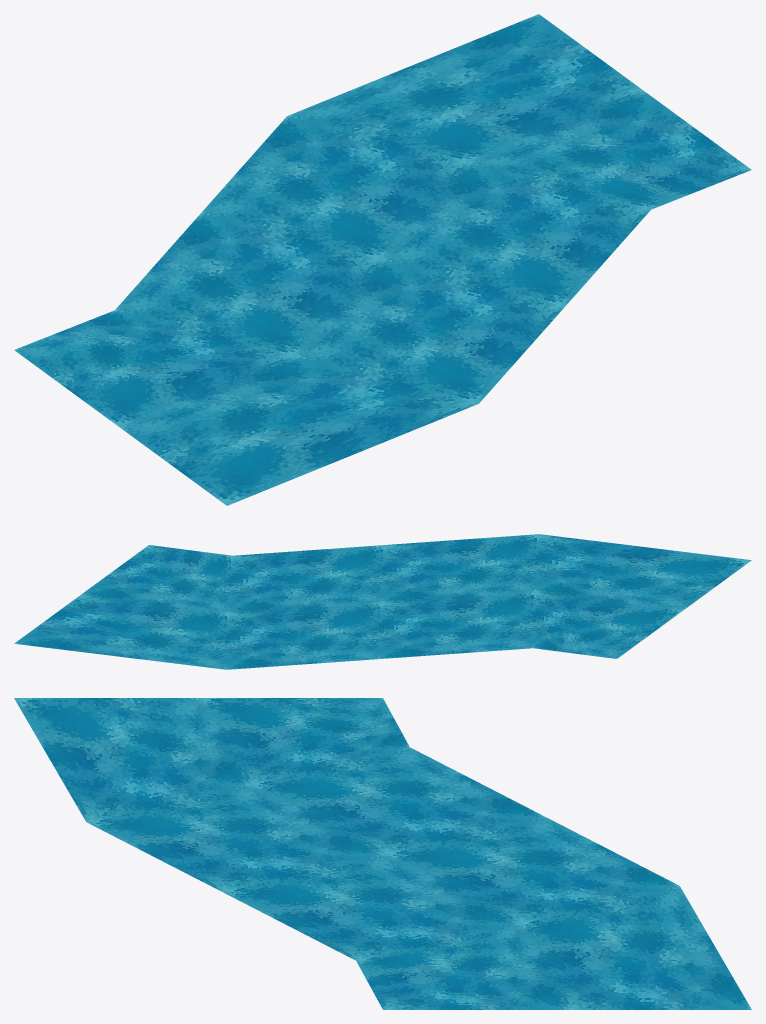
Rendered from Terrain_Water_River_Esse_CCW_4x4.glb.
3 renders of one model, top to bottom at view 1: azimuth 30°, elevation 25°; view 2: azimuth 150°, elevation 25°; view 3: azimuth 270°, elevation 25°, orthographic. The views are drawn at different scales.
Parts seen in each view (by area): view 1: Terrain_Water_River_Esse_CCW_4x4; view 2: Terrain_Water_River_Esse_CCW_4x4; view 3: Terrain_Water_River_Esse_CCW_4x4.
Part boxes in pixels (x1,y1,x2,y2): Terrain_Water_River_Esse_CCW_4x4: [14, 14, 751, 505]; Terrain_Water_River_Esse_CCW_4x4: [14, 534, 751, 669]; Terrain_Water_River_Esse_CCW_4x4: [14, 698, 751, 1009].
Bounding box in the file's own units: 400 × 0.000143 × 400.
1 material, 1 textured.
